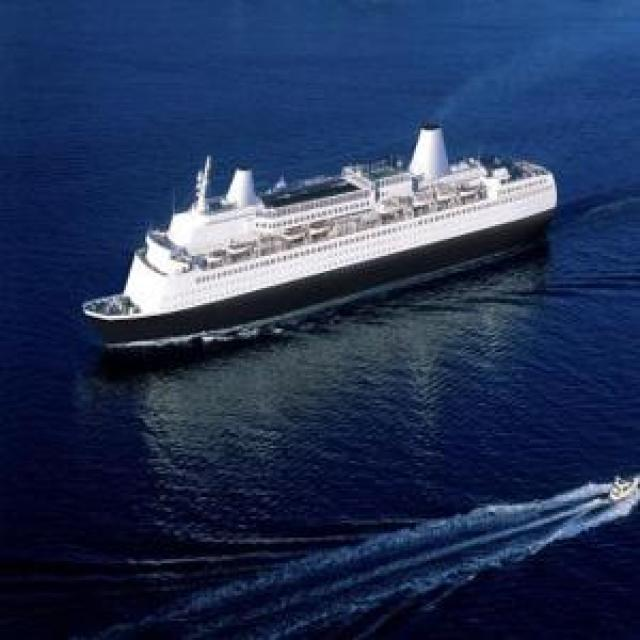passenger ship: (81, 115, 556, 359)
